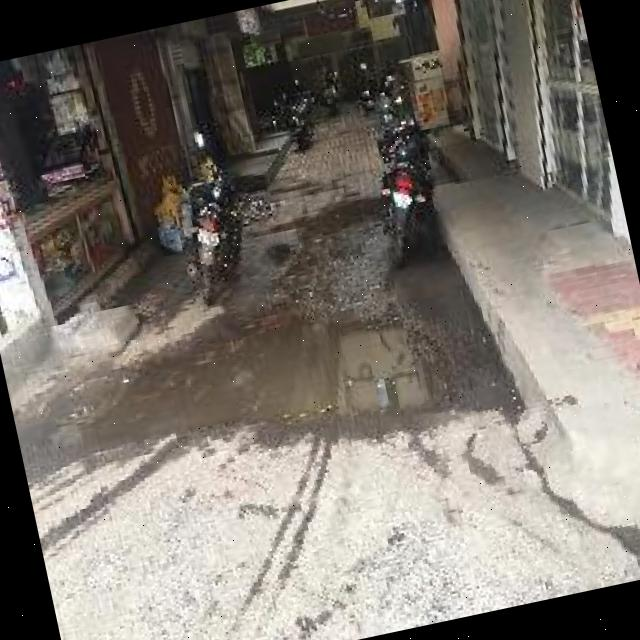stagnation: (118, 294, 444, 468)
